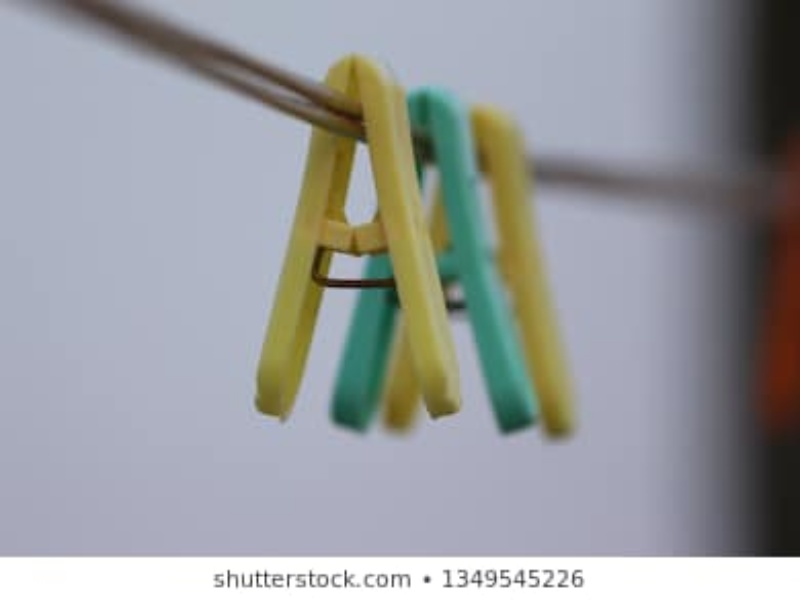plastic-peg: (249, 51, 460, 421), (331, 84, 529, 439), (395, 98, 577, 437)
